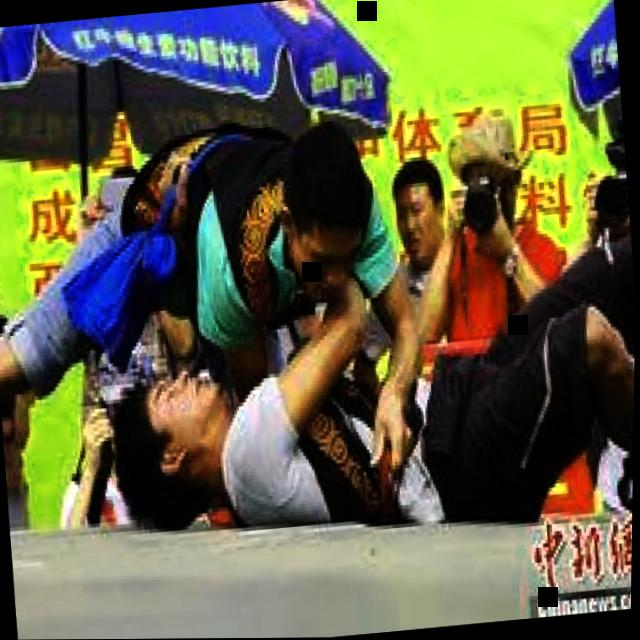Fall-Detected: (59, 193, 638, 565)
